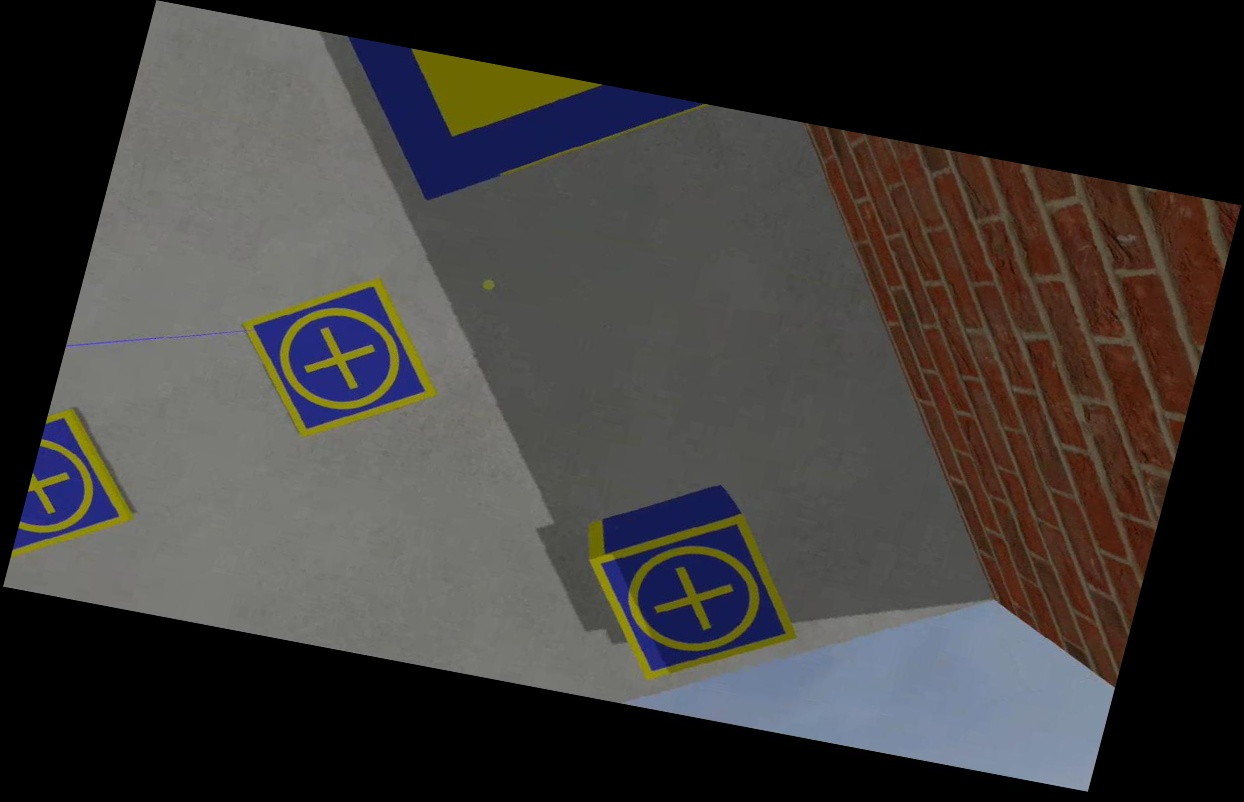large_base: (303, 34, 715, 240)
small_base: (568, 492, 821, 702), (220, 259, 462, 462), (12, 405, 156, 572)
